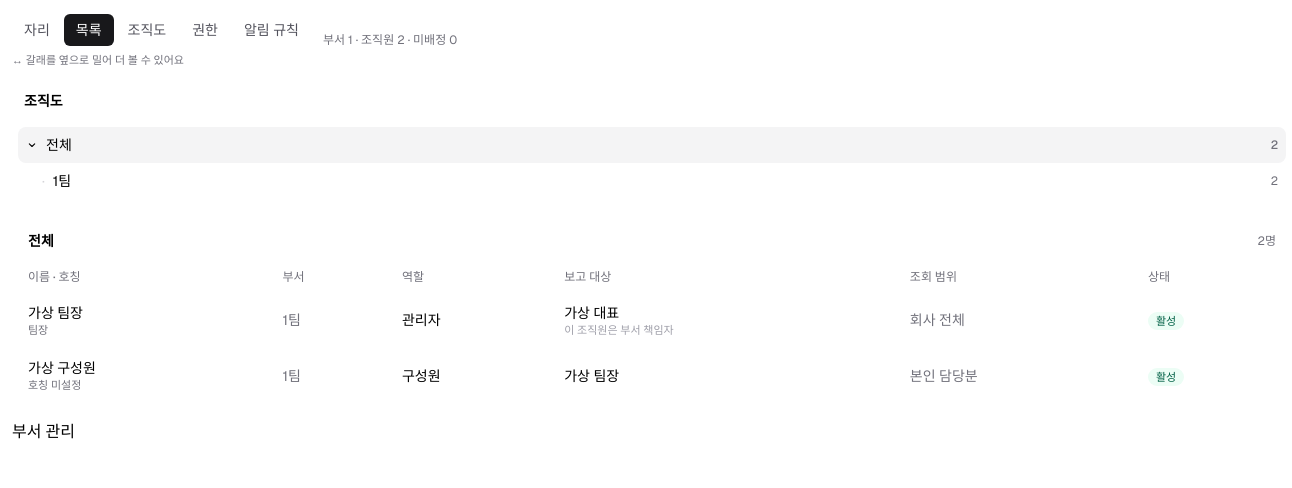
Test: Issue #643 조직관리 갈래 접근성 › 선택한 부서는 사람 이름으로만 말하고 raw dept UUID를 화면에 그리지 않는다
Click the button "· 1팀 2".
click(43, 180)  # box [18,162,1286,198]
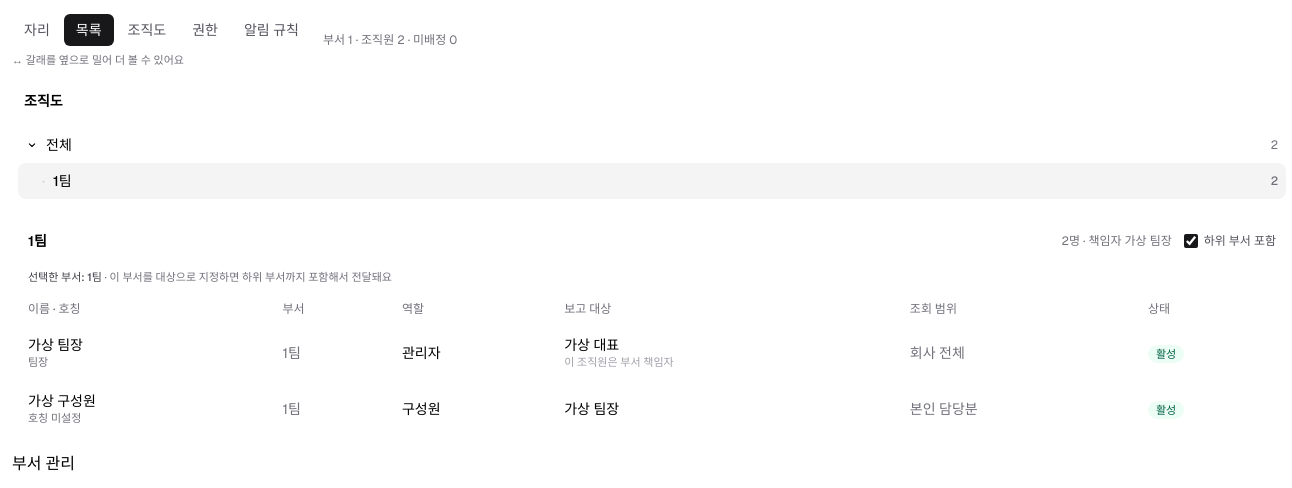
Now the text "선택한 부서: 1팀" is shown, box [28,270,102,284]
